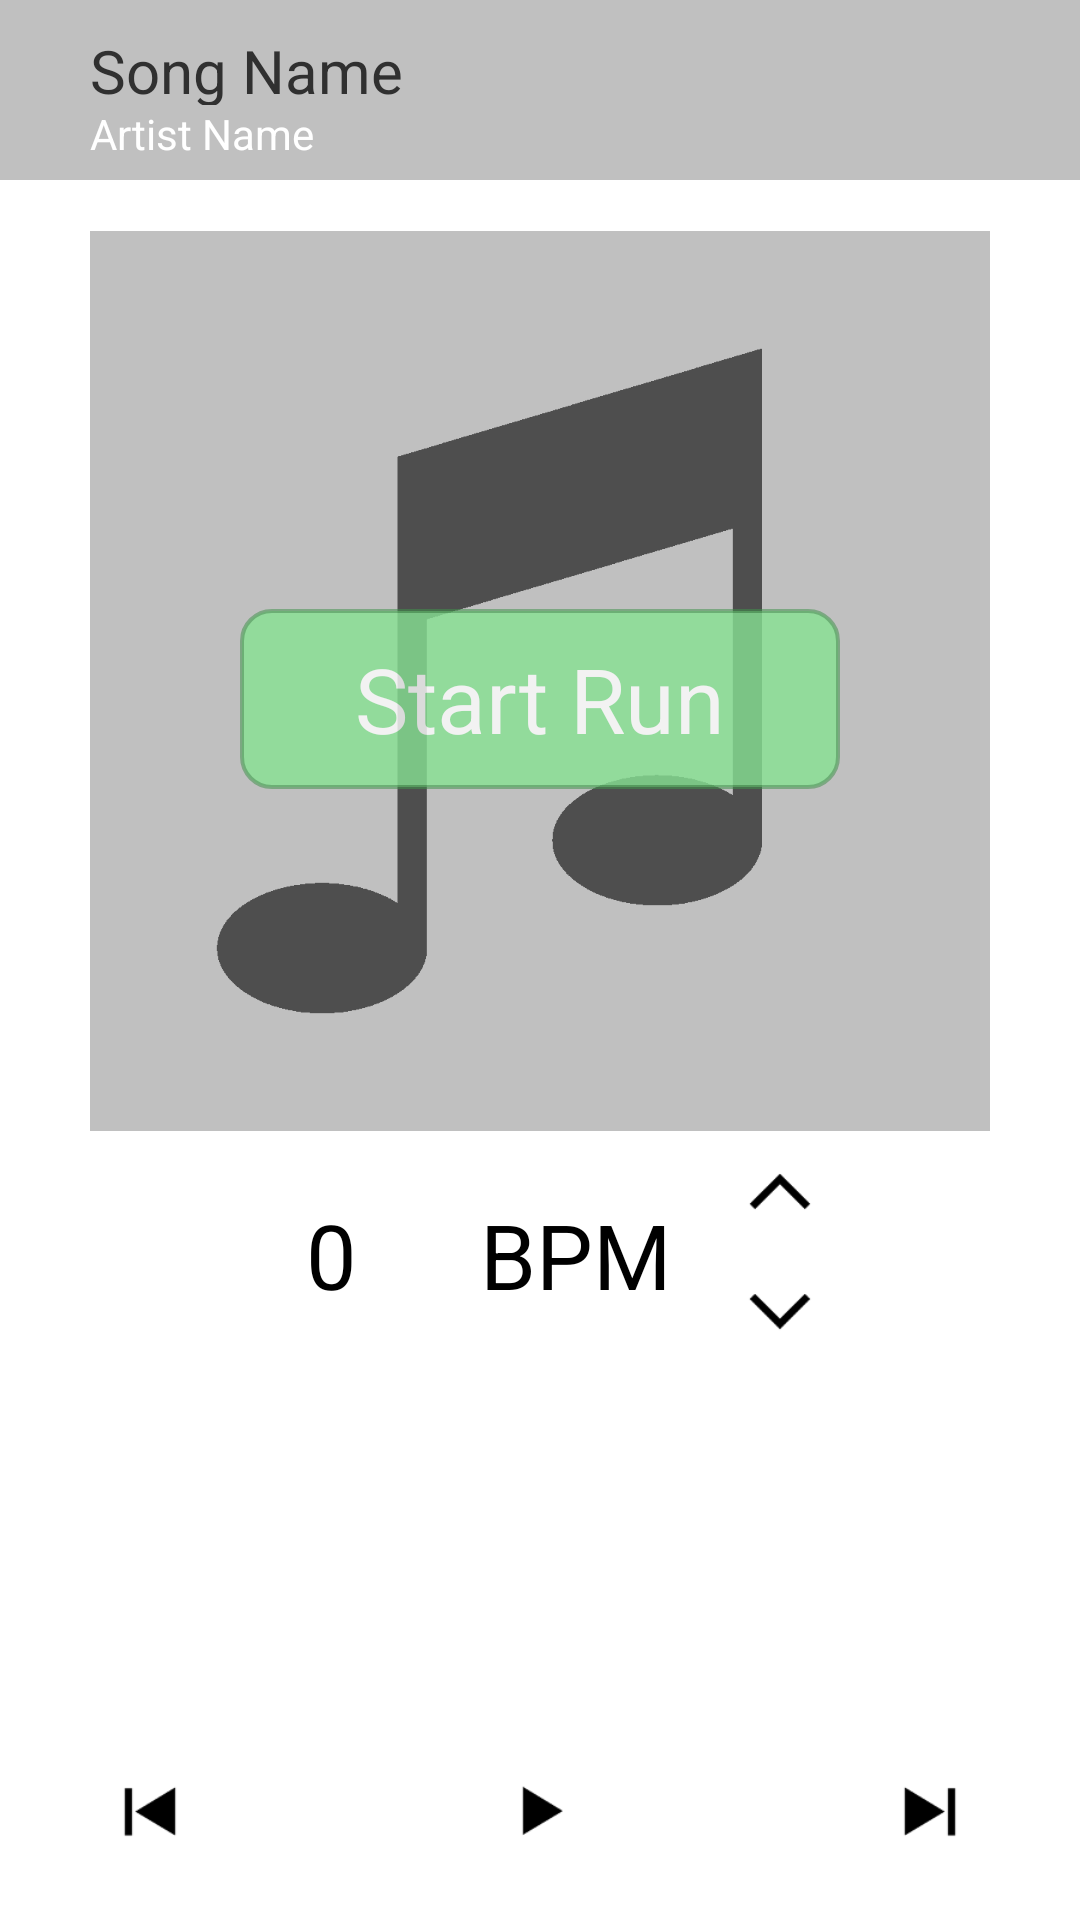

Where to tap for icons on this 1080×1920 app screen, as (x=x, y=y):
Decrease BPM button: (x=779, y=1311)
Increase BPM button: (x=779, y=1191)
Next song button: (x=930, y=1811)
Play button: (x=542, y=1810)
Previous song button: (x=150, y=1811)
